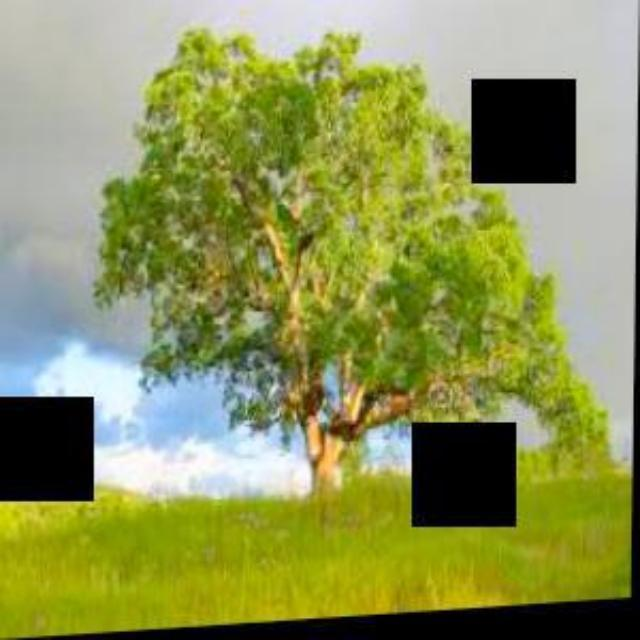tree: (87, 1, 618, 542)
